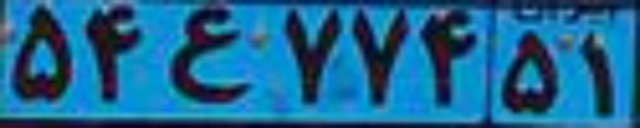1: (573, 30, 616, 118)
4: (80, 6, 143, 103), (420, 8, 478, 108)
5: (9, 5, 72, 102), (498, 29, 561, 114)
7: (281, 6, 344, 105), (354, 6, 413, 105)
ain: (166, 7, 259, 104)
